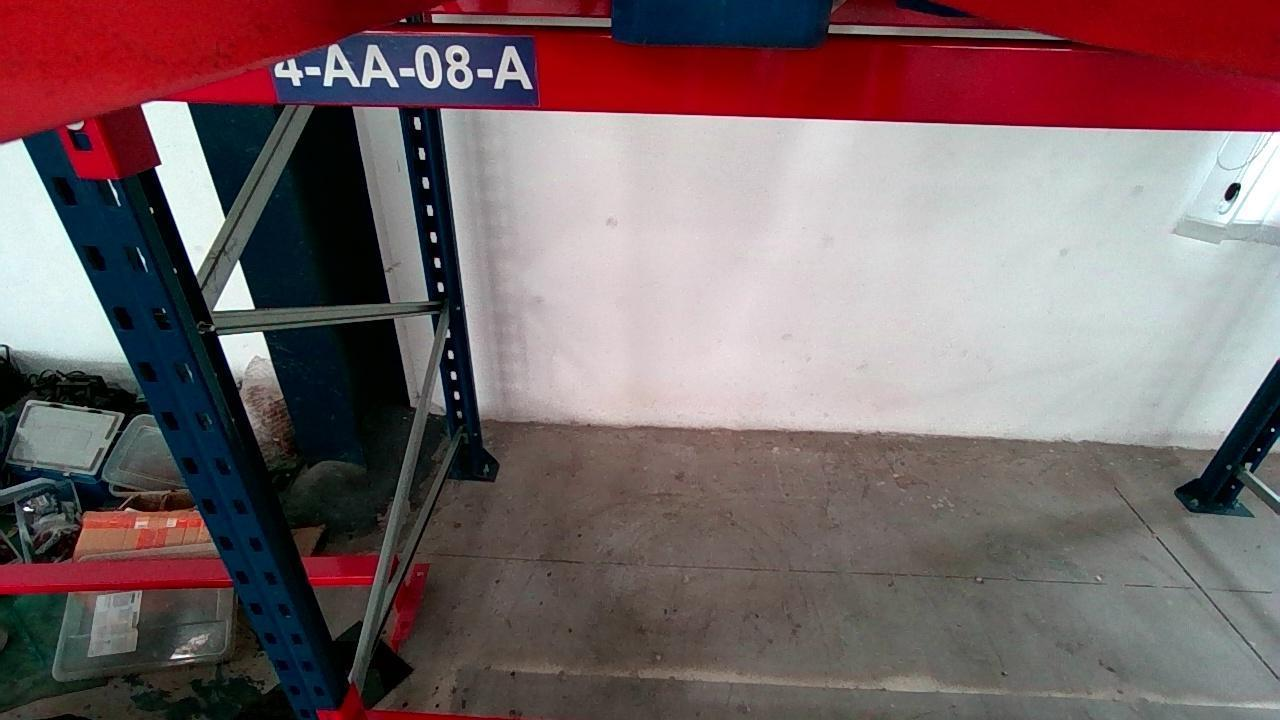h_rack: (142, 33, 1280, 131)
